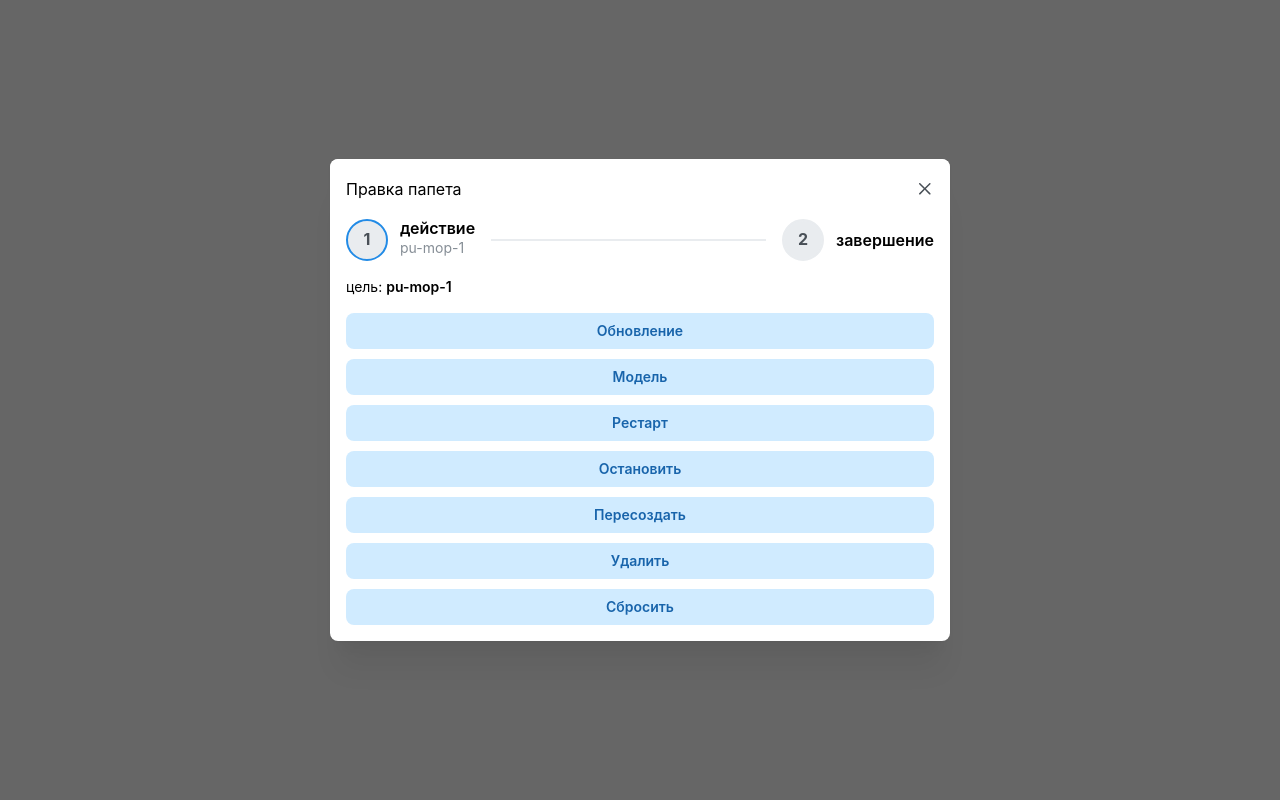
Scenario: #527 update rides its own mode step, radios off the choice screen
первый экран: шесть действий, радио на нём нет
Step 1. Click the button "Обновление" → (640, 331), box [346,313,934,349]
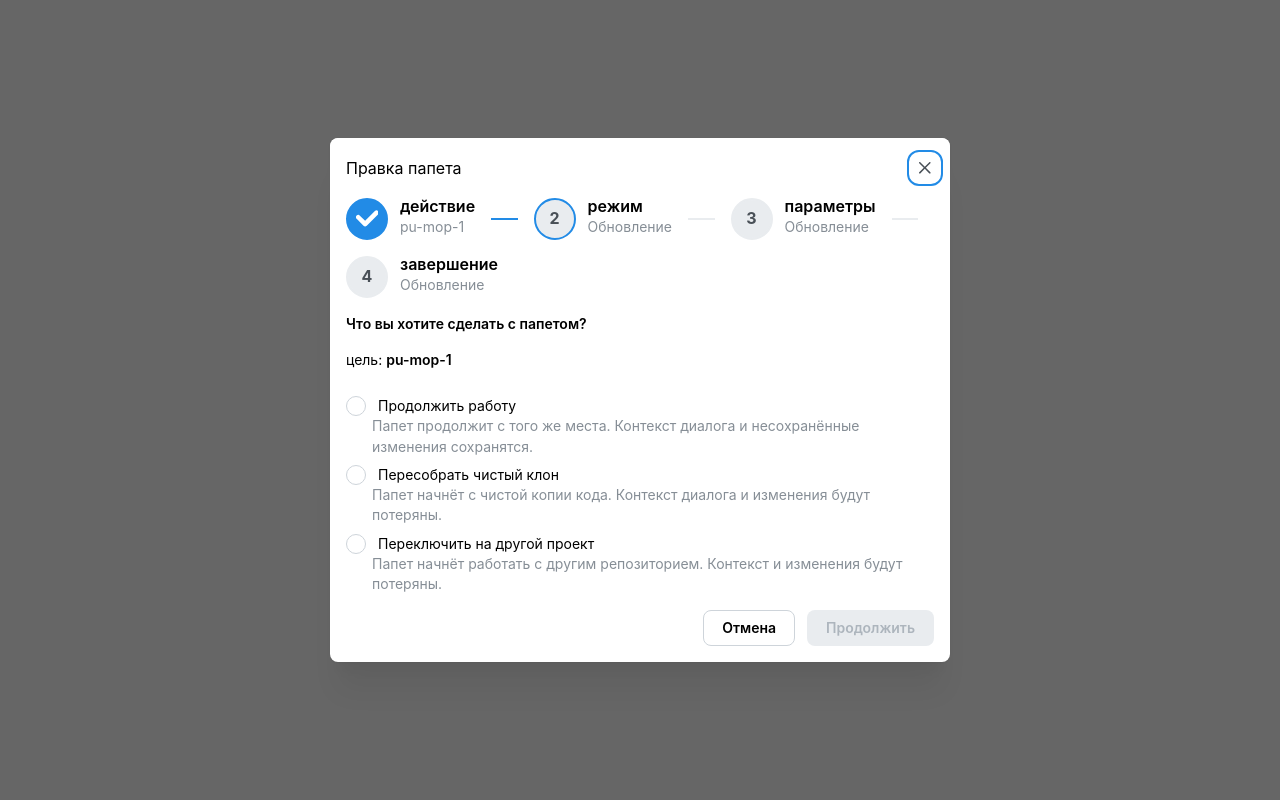
Expected: the text "Что вы хотите сделать с папетом?" is shown, [346,315,587,332]
Expected: the radio button labelled "Продолжить работу" is shown, [346,396,366,416]
Expected: the radio button labelled "Пересобрать чистый клон" is shown, [346,465,366,485]
